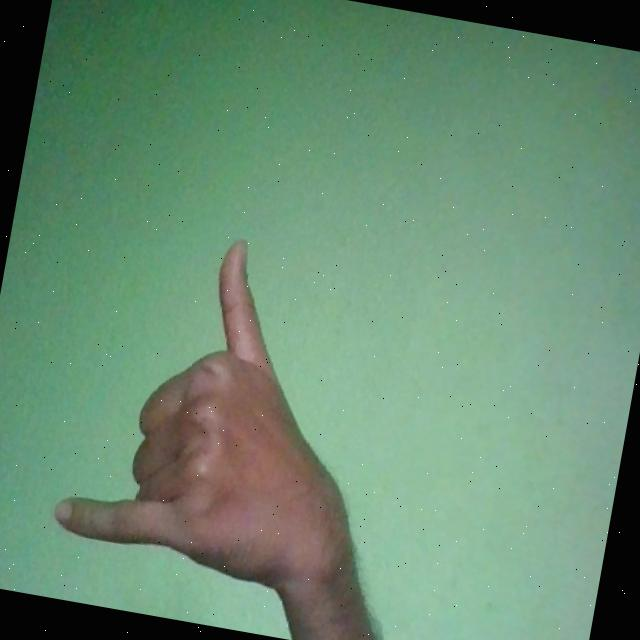Call Me: (44, 212, 402, 604)
